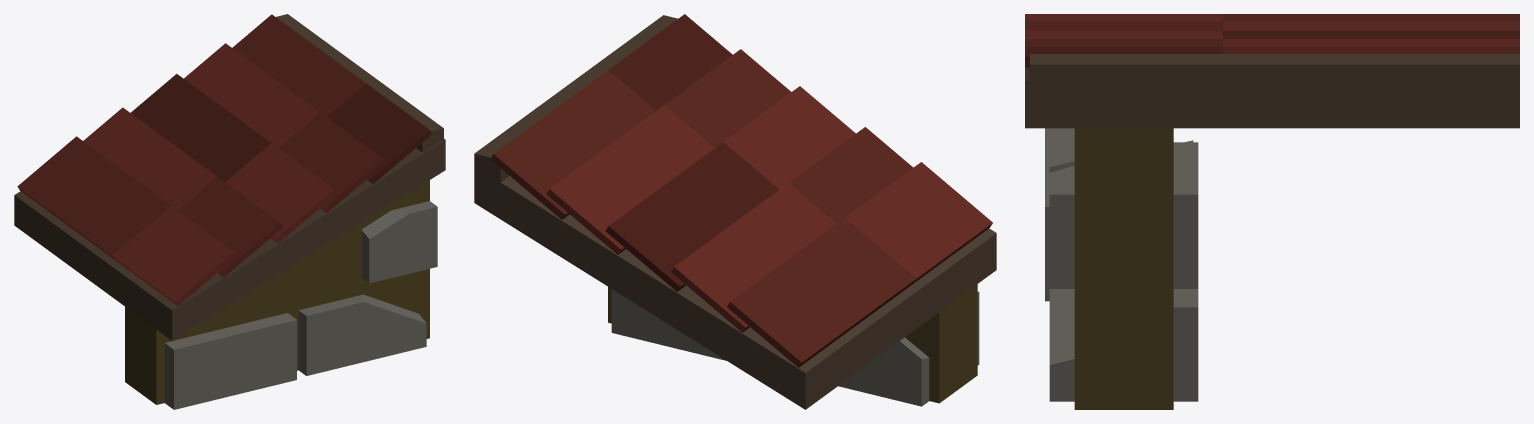
Rendered from A_Roof06.fbx.
3 renders of one model, left to right at view 1: azimuth 30°, elevation 25°; view 2: azimuth 150°, elevation 25°; view 3: azimuth 270°, elevation 25°, orthographic. The views are drawn at different scales.
Parts seen in each view (by area): view 1: A_Roof06; view 2: A_Roof06; view 3: A_Roof06.
Boxes of the visible parts, bbox=[...] form: A_Roof06: bbox=[14, 14, 445, 409]; A_Roof06: bbox=[474, 14, 996, 409]; A_Roof06: bbox=[1025, 14, 1519, 409].
Size of the model in its own units: 100 by 78.27 by 100.
